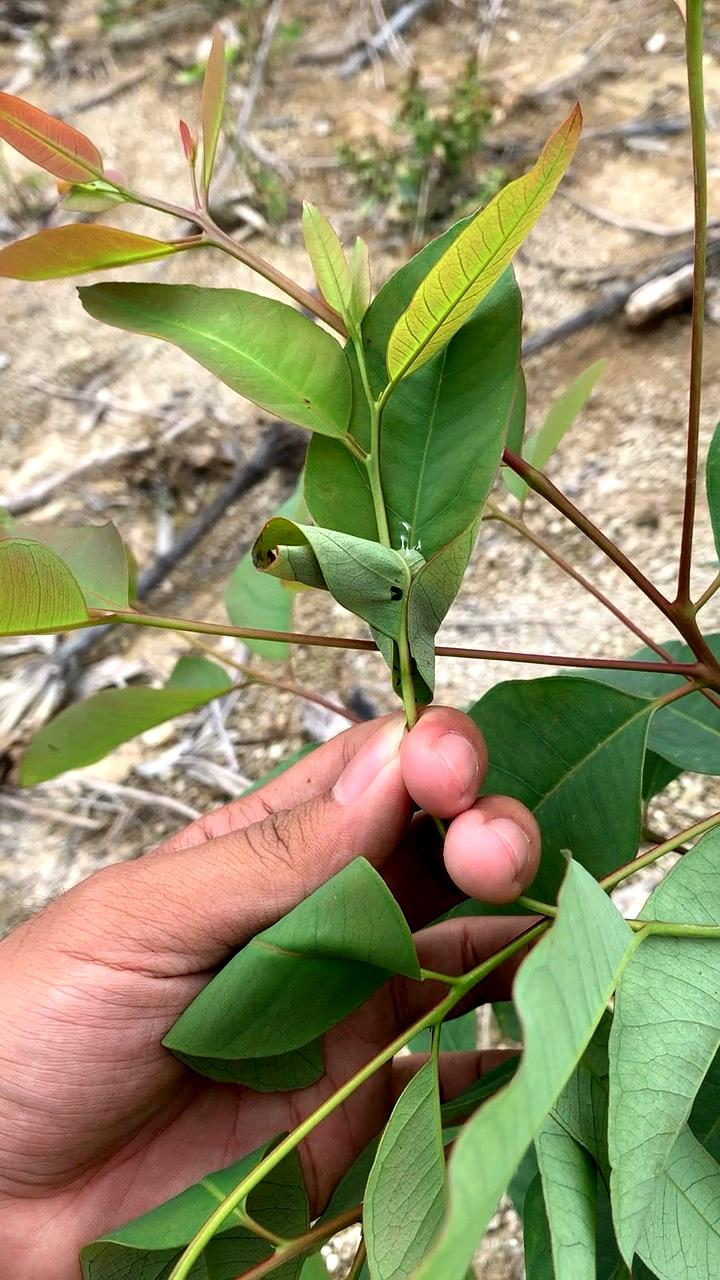Leaf Roller - Leaf: (236, 488, 457, 694)
